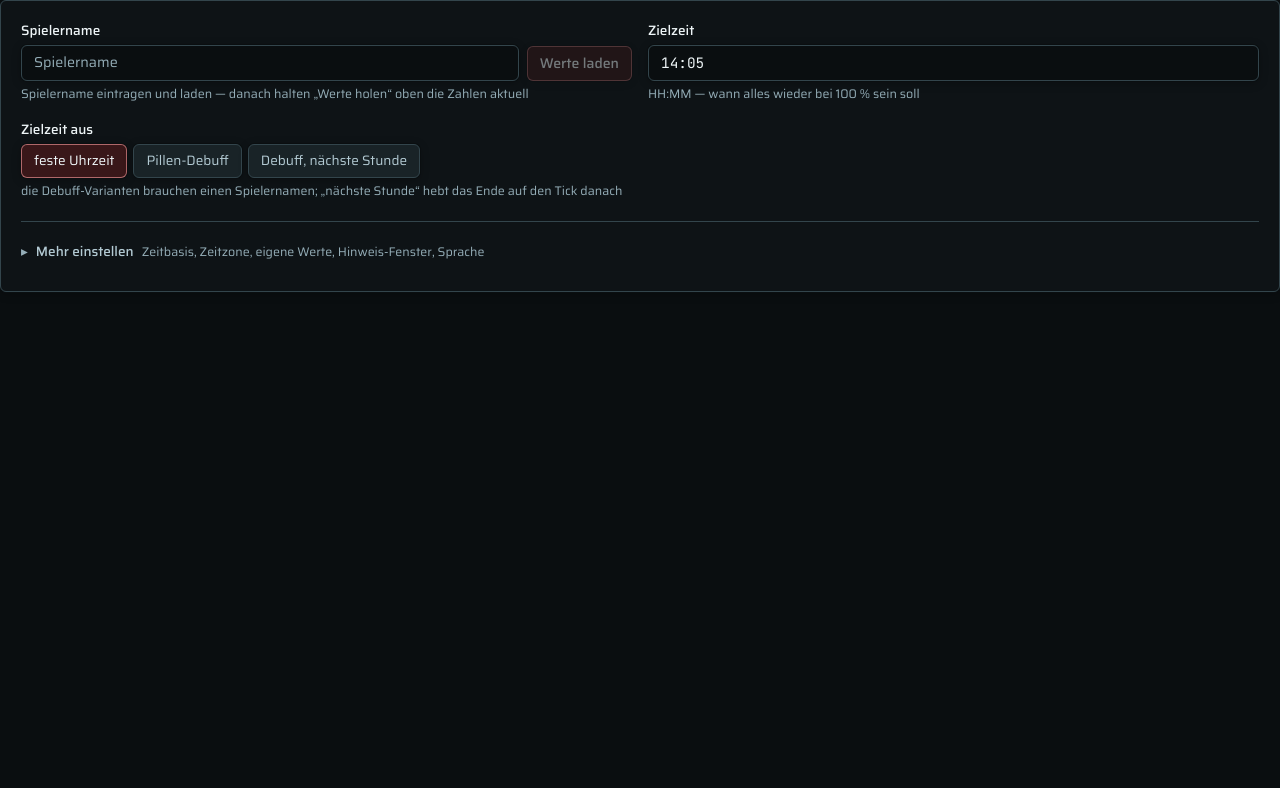
Scenario: Einstellungen › macht die eigenen Werte im manuellen Betrieb editierbar
The width and height of the screenshot is (1280, 788).
Click the heading: (253, 252) [21,241,484,262]
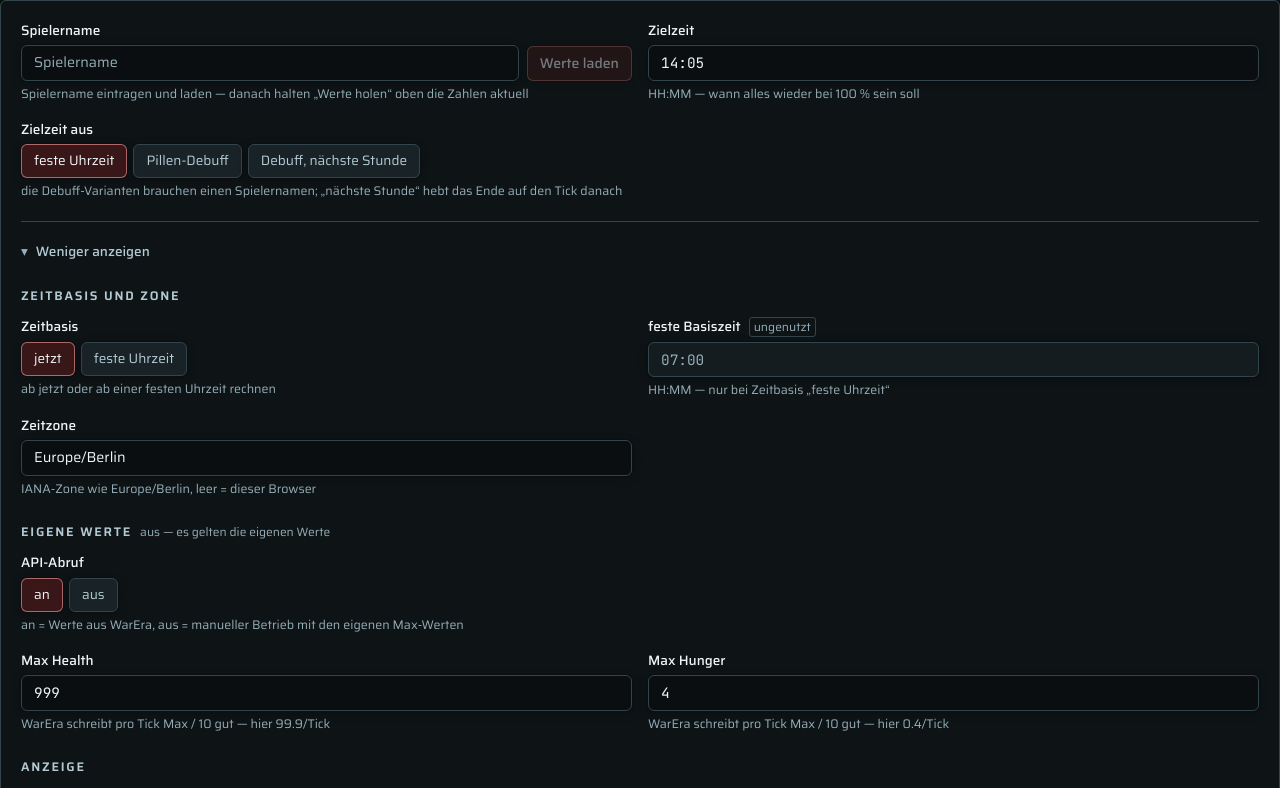
expect the field labelled "Max Health" is enabled: met, box [21,675,632,711]
